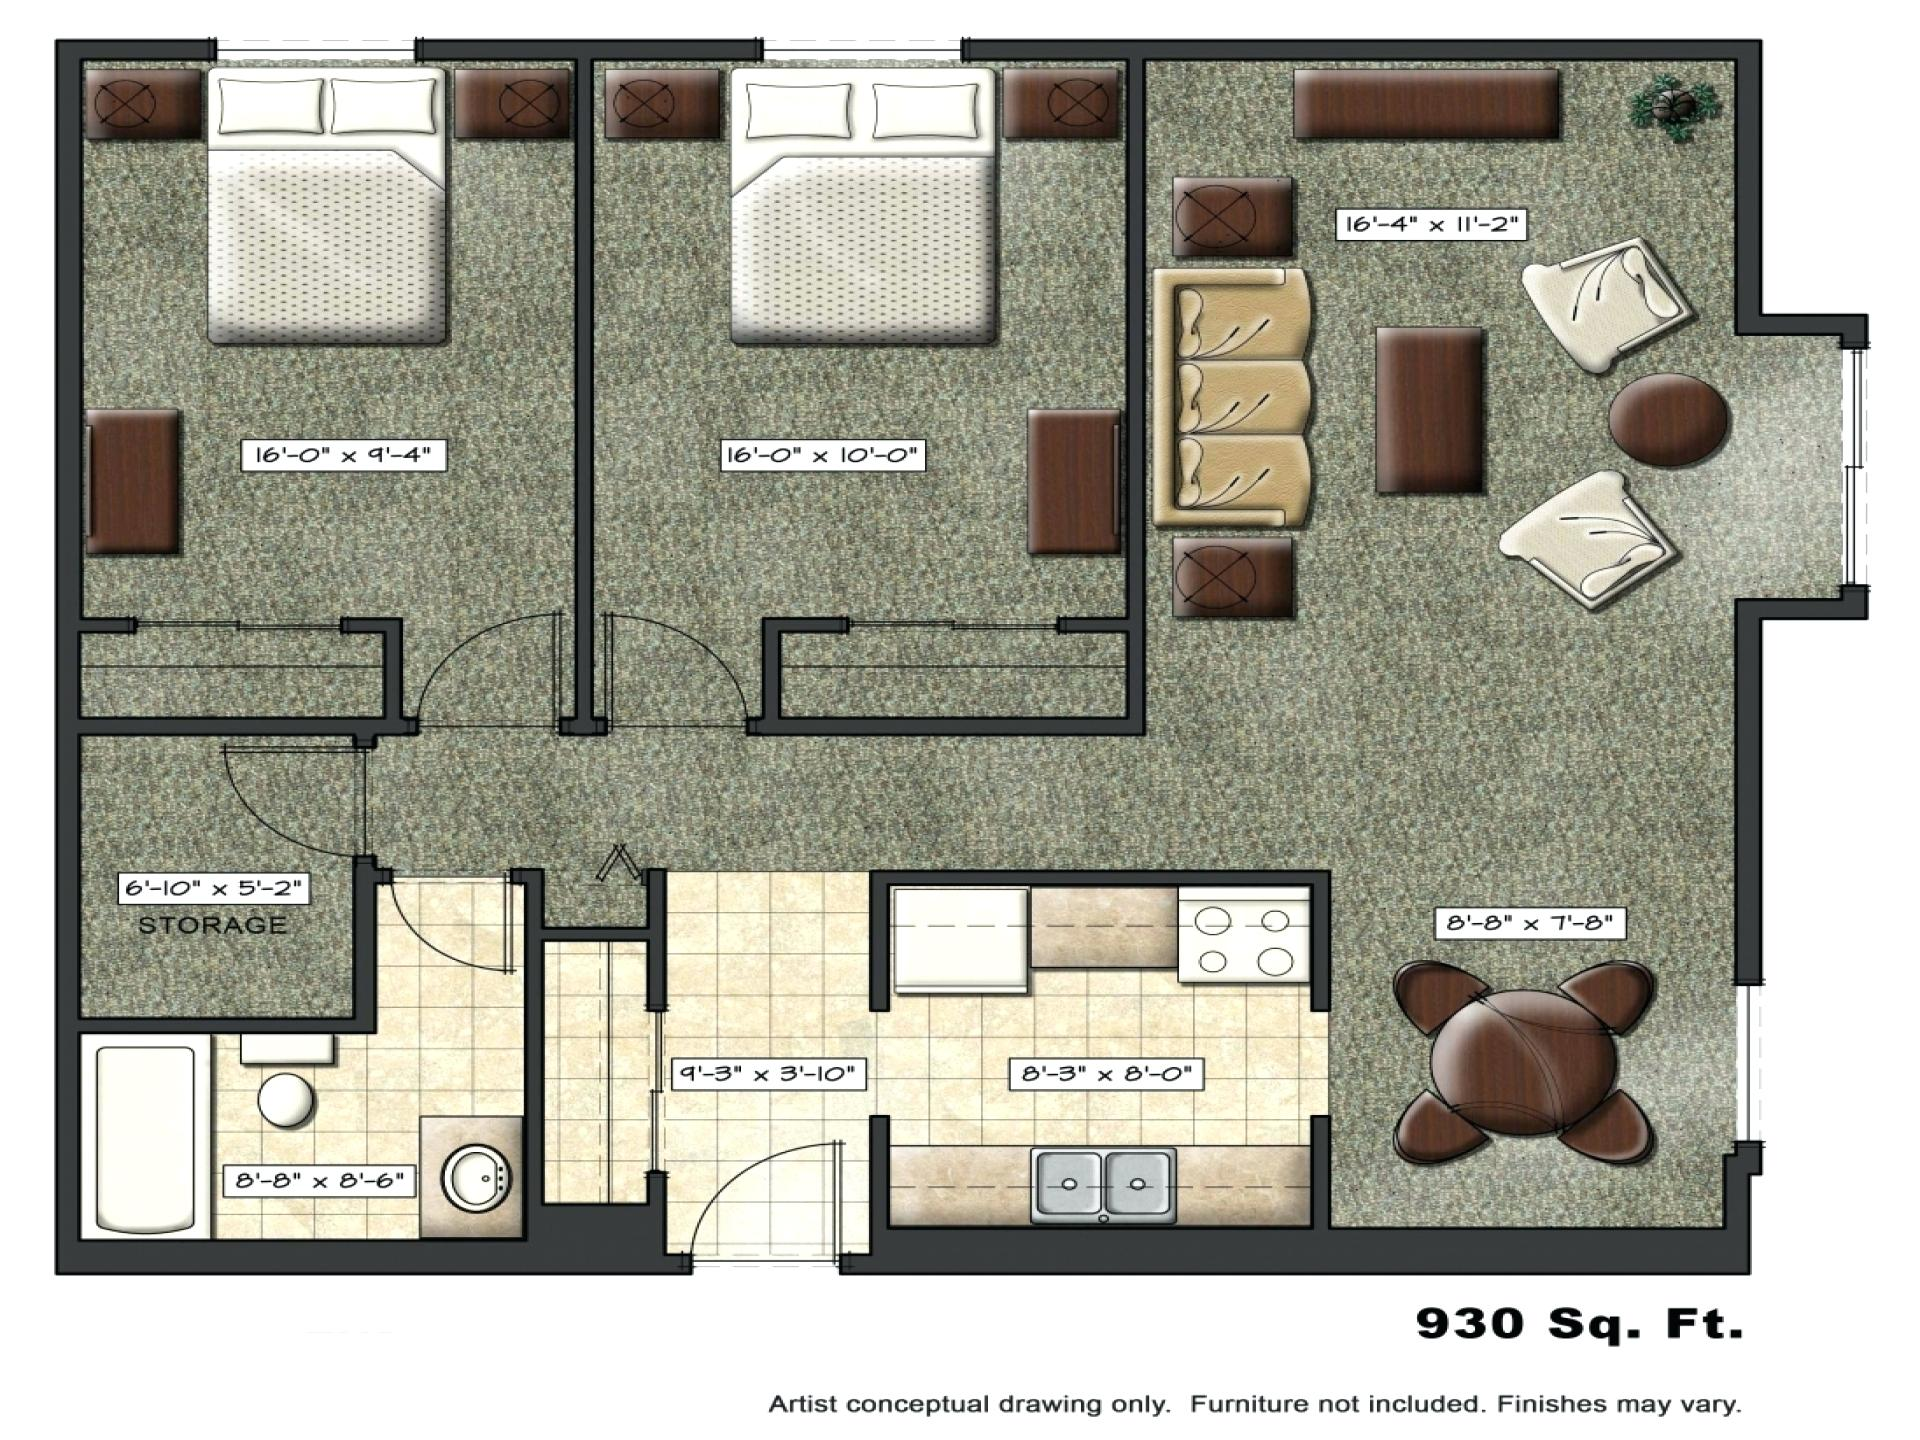door: (694, 1141, 847, 1268), (417, 607, 565, 732), (218, 737, 366, 862), (602, 611, 748, 737), (386, 871, 517, 980)
